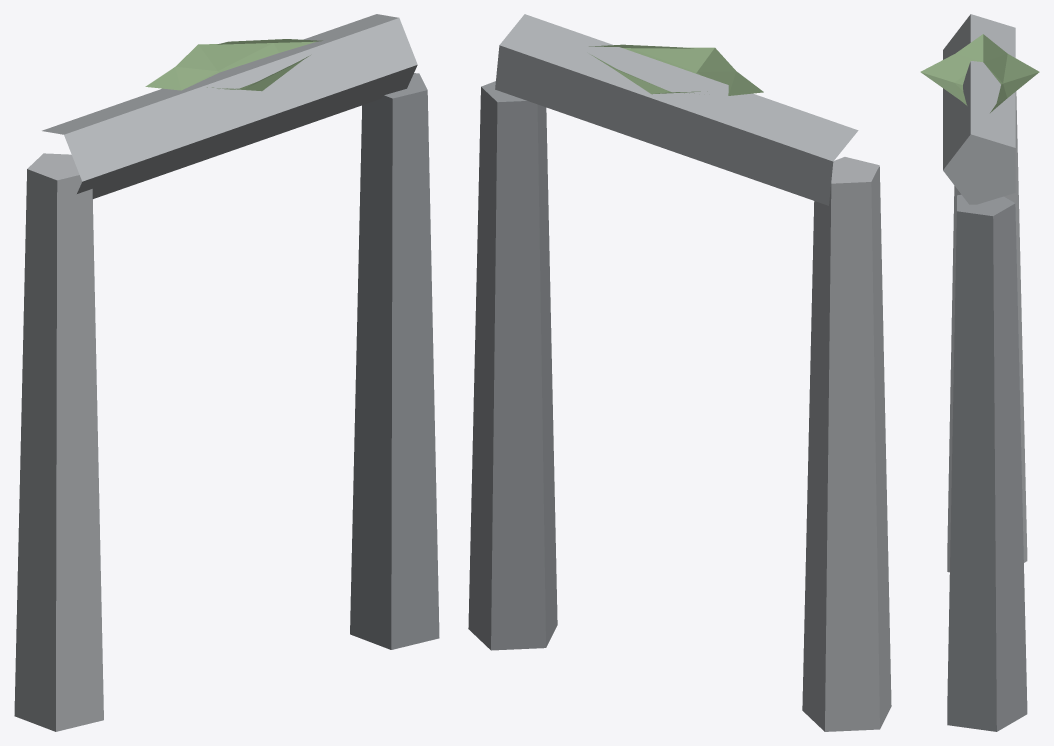
Rendered from arch_rock_v19.glb.
3 views of the same model, side by side, from view 1: azimuth 30°, elevation 25°; view 2: azimuth 150°, elevation 25°; view 3: azimuth 270°, elevation 25° (orthographic). The views are drawn at different scales.
Visible parts, largest first — view 1: lod0; view 2: lod0; view 3: lod0.
Boxes of the visible parts, left/top/right/bottom form: lod0: left=14, top=14, right=439, bottom=731; lod0: left=468, top=14, right=891, bottom=731; lod0: left=920, top=14, right=1039, bottom=731.
Size of what is drawn, in the model's own units: 2.22 by 3.23 by 0.5948.
